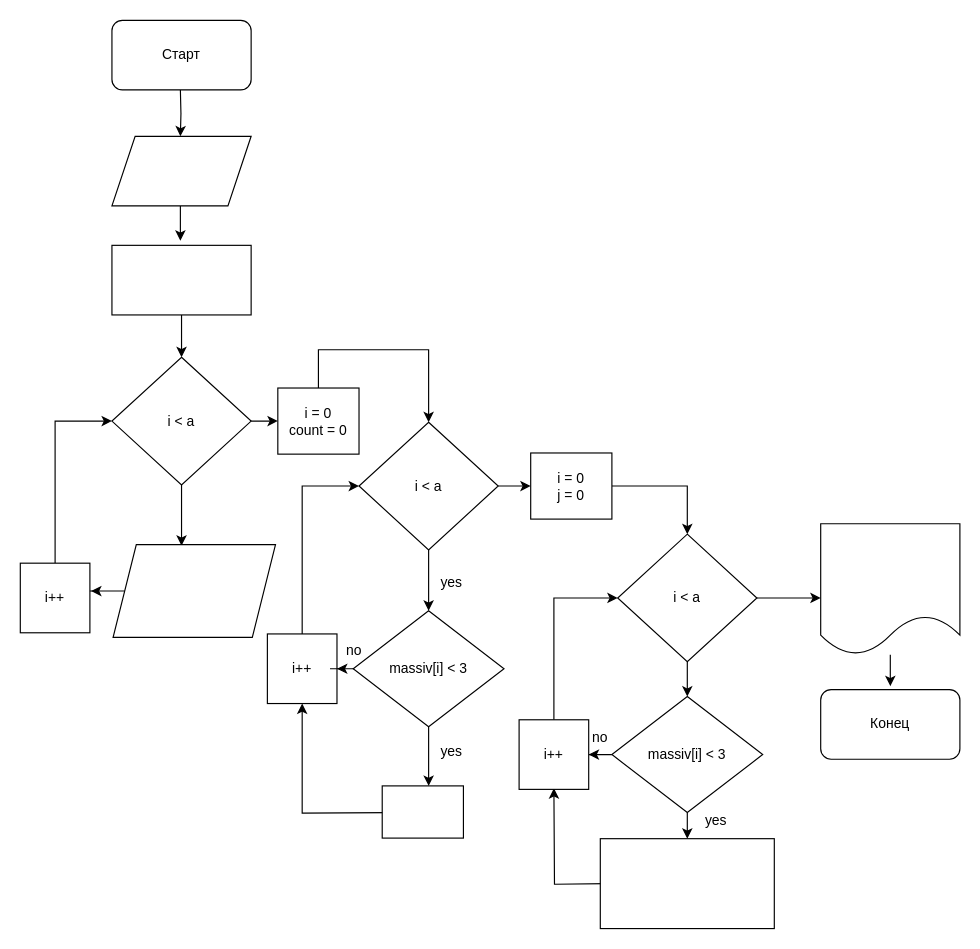
This 980x949 diagram has some shape labels left out. The centre of each missing label's shape, as x and y in pixels:
"count++" belongs at point 422,811.
"i = 0" belongs at point 181,279.
"massive_3_el[j] = array[i] j++" belongs at point 686,883.
"Print massiv massive_3_el" belongs at point 890,589.
"ввести количество элементов a" belongs at point 181,170.
"ввод очередного элемента массива massiv" belongs at point 194,590.
